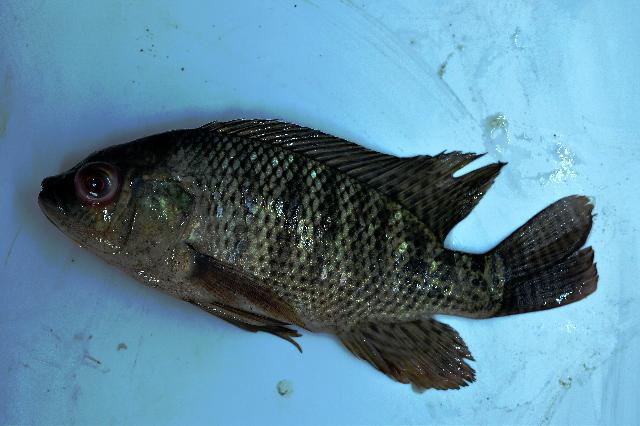Columnaris Disease: (38, 120, 598, 390)
